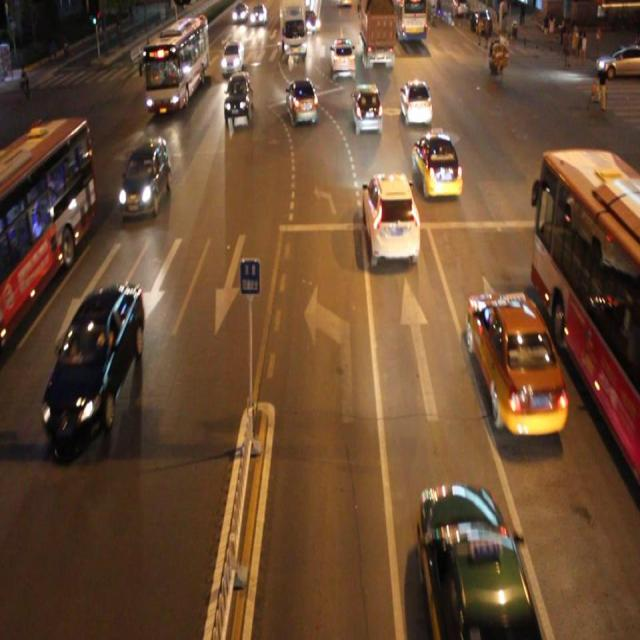car: (418, 479, 536, 640), (45, 280, 144, 443), (466, 289, 566, 435), (363, 171, 418, 263), (120, 138, 170, 213), (410, 132, 460, 196), (399, 78, 434, 128), (350, 82, 382, 135), (285, 78, 319, 126), (222, 70, 252, 121), (330, 38, 358, 81)
van: (532, 148, 640, 484), (1, 116, 95, 346), (143, 18, 208, 112)
